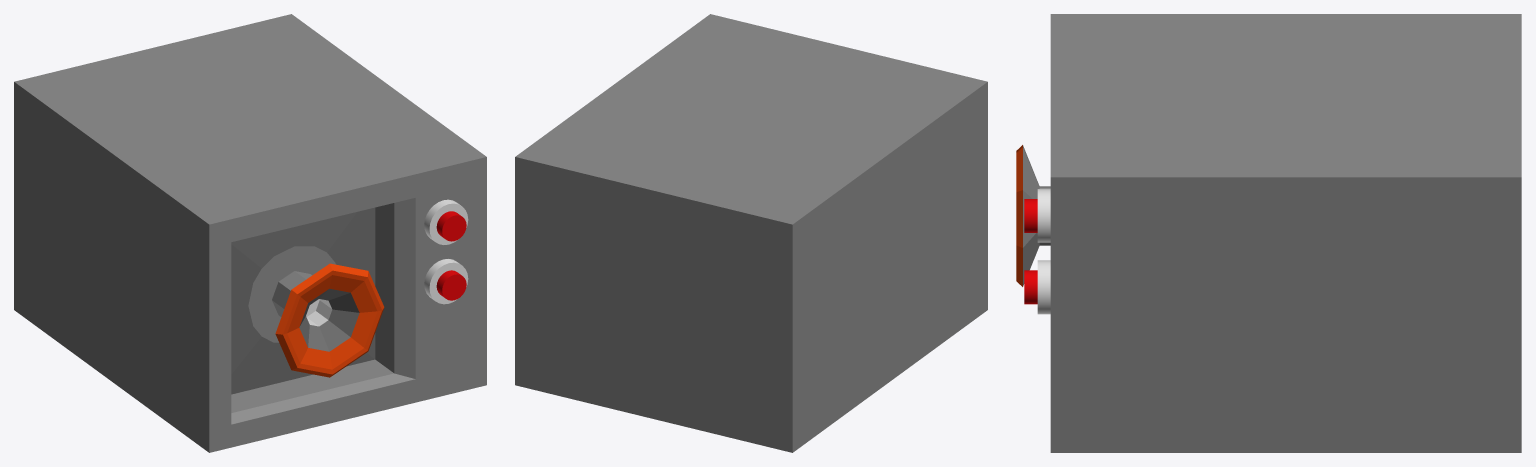
File: normaliser-sizer-ray.fbx
The picture shows the model from 3 angles, left to right: view 1: azimuth 30°, elevation 25°; view 2: azimuth 150°, elevation 25°; view 3: azimuth 270°, elevation 25°; orthographic projection. The views are drawn at different scales.
Visible parts, largest first — view 1: Cube, Circle, Circle.001; view 2: Cube; view 3: Cube, Circle.001, Circle.
Part boxes in pixels (x1,y1,x2,y2): Cube: (14, 14, 486, 452); Circle: (424, 199, 468, 244); Circle.001: (424, 259, 468, 304); Cube: (515, 14, 987, 452); Cube: (1016, 14, 1521, 452); Circle.001: (1024, 260, 1050, 314); Circle: (1024, 189, 1050, 242).
Bounding box in the file's own units: 83.52 × 65.67 × 109.
